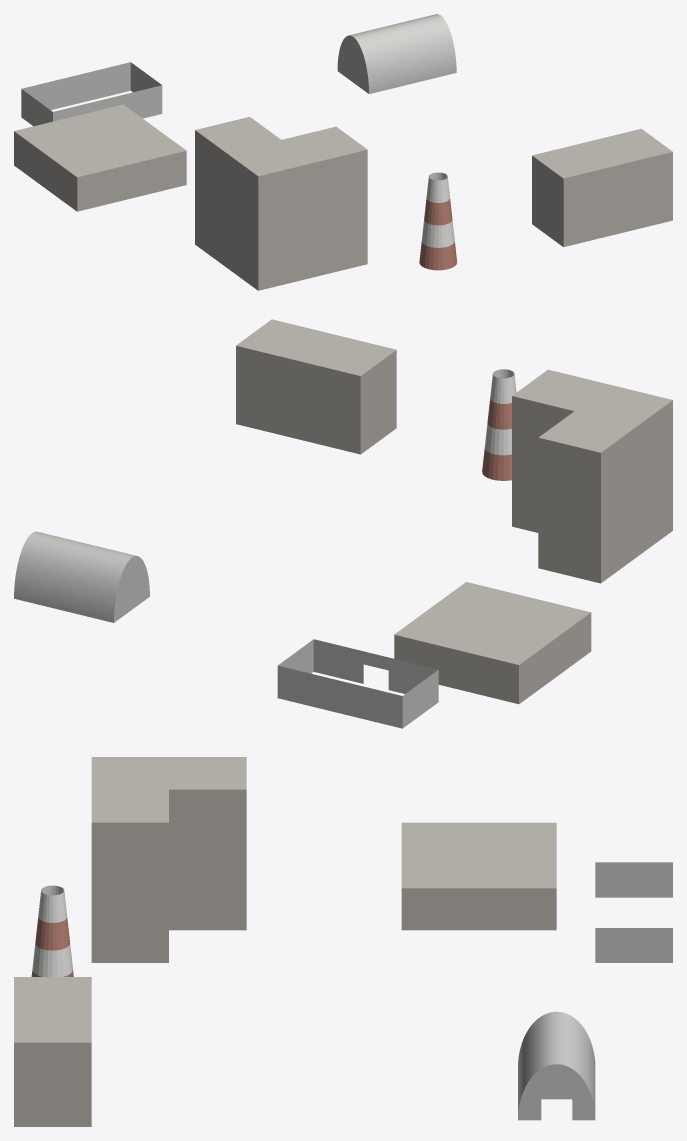
The model's file is demo.glb.
The picture shows the model from 3 angles, top to bottom: view 1: azimuth 30°, elevation 25°; view 2: azimuth 150°, elevation 25°; view 3: azimuth 270°, elevation 25°; orthographic projection. The views are drawn at different scales.
Parts seen in each view (by area): view 1: demo; view 2: demo; view 3: demo.
Boxes of the visible parts, <box> form: demo: <box>14,14,672,290</box>; demo: <box>14,319,672,728</box>; demo: <box>14,757,672,1126</box>.
Bounding box in the file's own units: 80 × 20 × 85.
